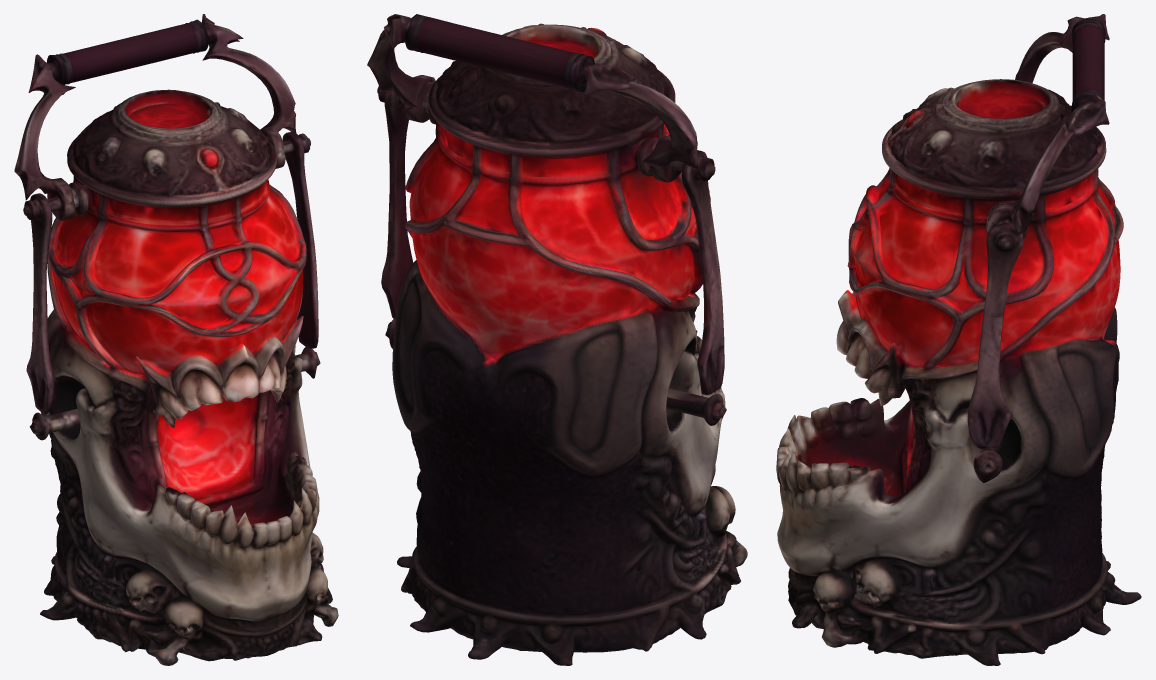
The model's file is red esmeralda.glb.
3 renders of one model, left to right at view 1: azimuth 30°, elevation 25°; view 2: azimuth 150°, elevation 25°; view 3: azimuth 270°, elevation 25°, orthographic. The views are drawn at different scales.
Visible parts, largest first — view 1: material; view 2: material; view 3: material.
Boxes of the visible parts, box(x1,y1,x2,y2) form: material: box(14, 14, 338, 665); material: box(367, 14, 747, 665); material: box(776, 14, 1141, 665).
Size of the model in its own units: 0.5964 by 1.04 by 0.6266.
1 material, 1 textured.
